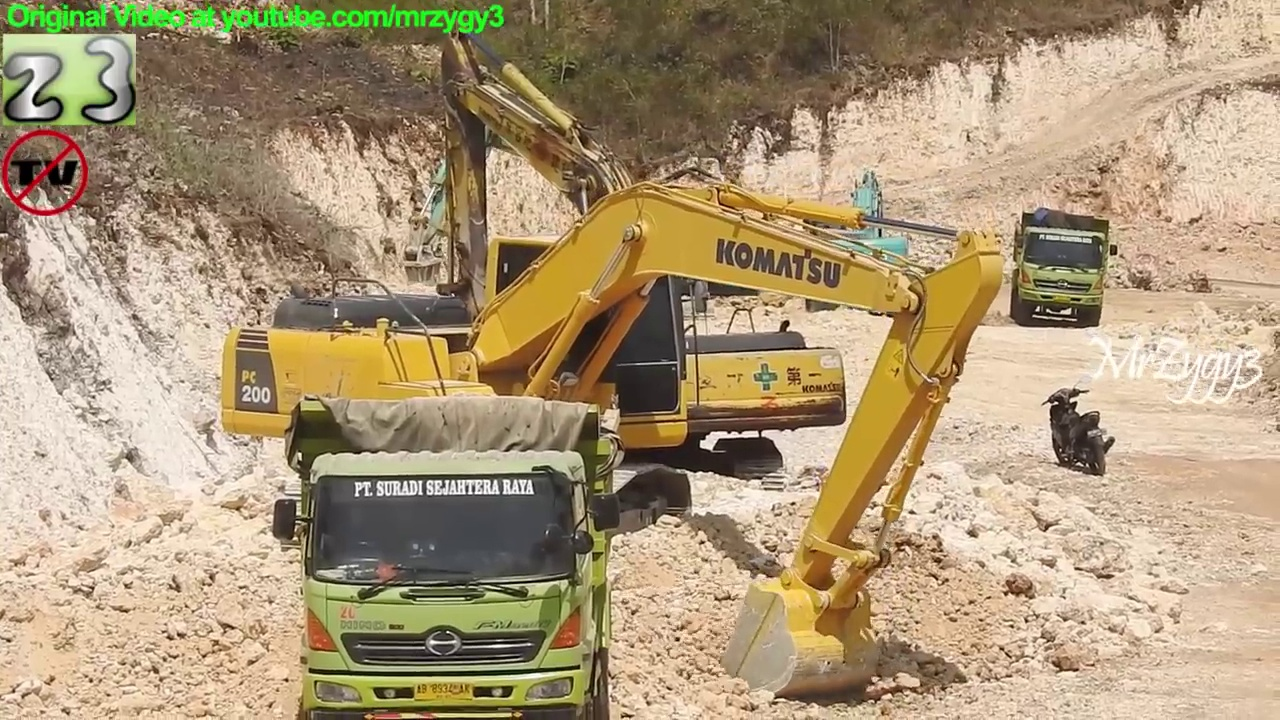excavator: (212, 162, 1010, 703), (415, 21, 857, 507), (396, 85, 765, 330), (791, 159, 926, 320)
truck: (265, 392, 631, 720), (1006, 203, 1122, 333)
